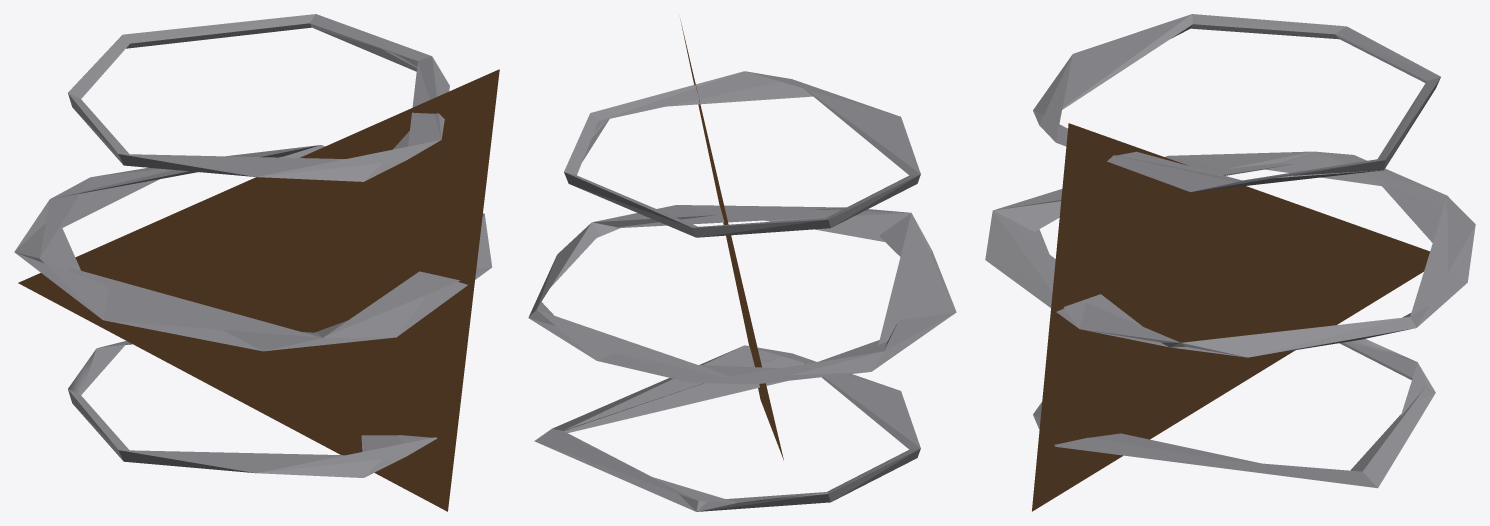
File: powder_keg_lod2.glb
The picture shows the model from 3 angles, left to right: view 1: azimuth 30°, elevation 25°; view 2: azimuth 150°, elevation 25°; view 3: azimuth 270°, elevation 25°; orthographic projection. The views are drawn at different scales.
Visible parts, largest first — view 1: m; view 2: m; view 3: m.
Boxes of the visible parts, x1,y1,x2,y2 form: m: [14, 14, 499, 511]; m: [528, 19, 956, 511]; m: [985, 14, 1475, 511].
Size of the model in its own units: 0.6106 by 0.6133 by 0.6431.
2 materials, 1 textured.
